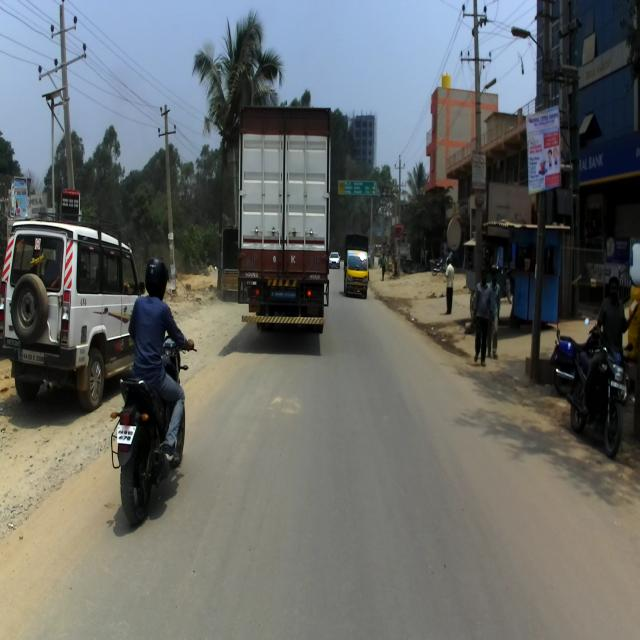car ahead at: (0, 208, 120, 388)
motorcycle ahead at: (114, 371, 169, 532), (592, 328, 636, 458)
truck ahead at: (234, 99, 329, 340)
